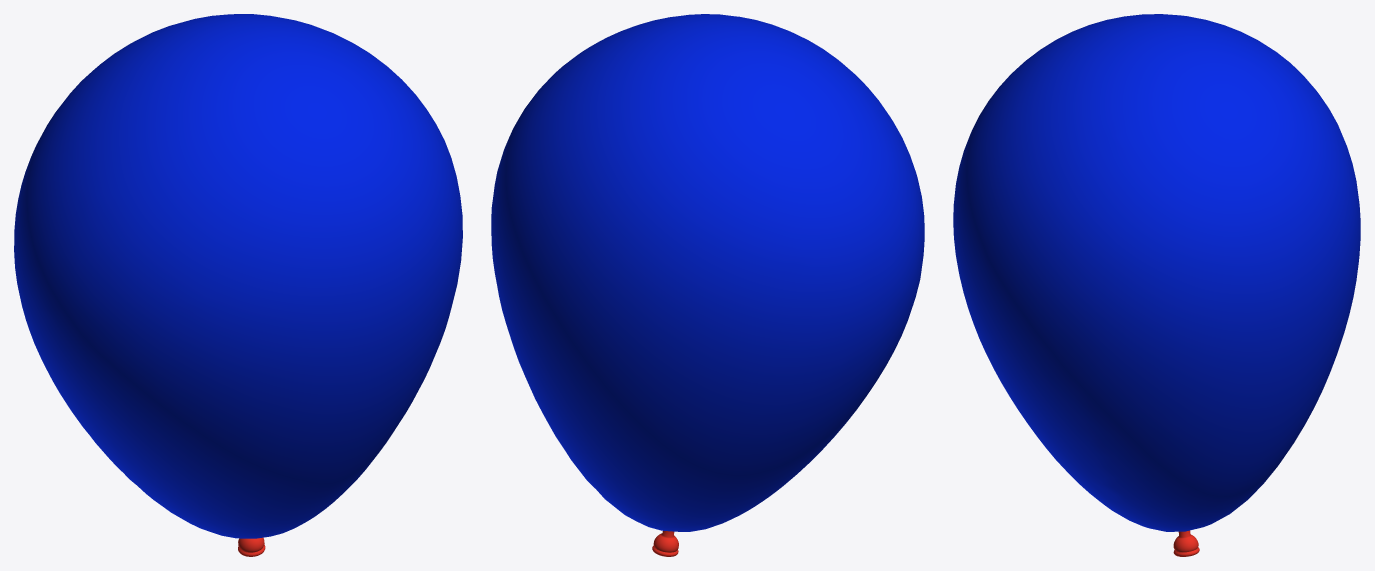
The model's file is balloon_2.fbx.
3 renders of one model, left to right at view 1: azimuth 30°, elevation 25°; view 2: azimuth 150°, elevation 25°; view 3: azimuth 270°, elevation 25°, orthographic. The views are drawn at different scales.
Parts seen in each view (by area): view 1: node_id214.001; view 2: node_id214.001; view 3: node_id214.001.
Boxes of the visible parts, bbox=[...] form: node_id214.001: bbox=[14, 14, 462, 556]; node_id214.001: bbox=[491, 14, 924, 556]; node_id214.001: bbox=[953, 14, 1360, 556].
Bounding box in the file's own units: 8.73 × 11.25 × 8.17.
1 material, 1 textured.
